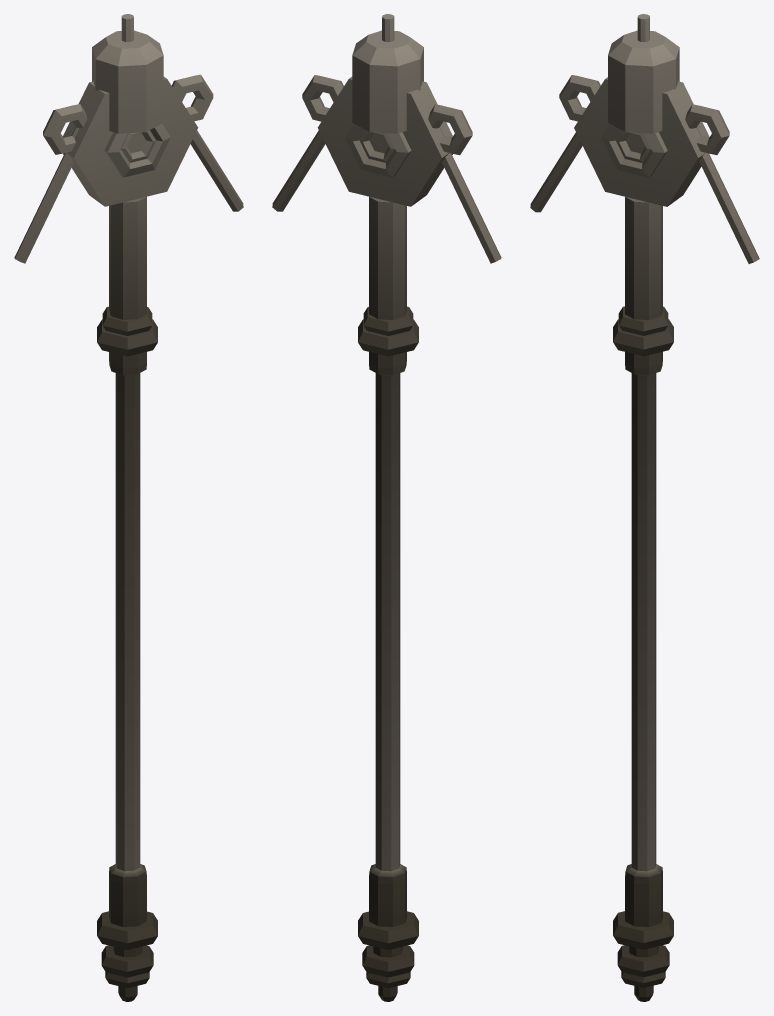
Rendered from BACULO.fbx.
3 views of the same model, side by side, from view 1: azimuth 30°, elevation 25°; view 2: azimuth 150°, elevation 25°; view 3: azimuth 330°, elevation 25° (orthographic).
Visible parts, largest first — view 1: Baculo; view 2: Baculo; view 3: Baculo.
Part boxes in pixels (bbox=[...]): Baculo: bbox=[14, 14, 243, 1001]; Baculo: bbox=[272, 14, 501, 1001]; Baculo: bbox=[530, 14, 759, 1001].
Bounding box in the file's own units: 78.28 × 322 × 22.03.
